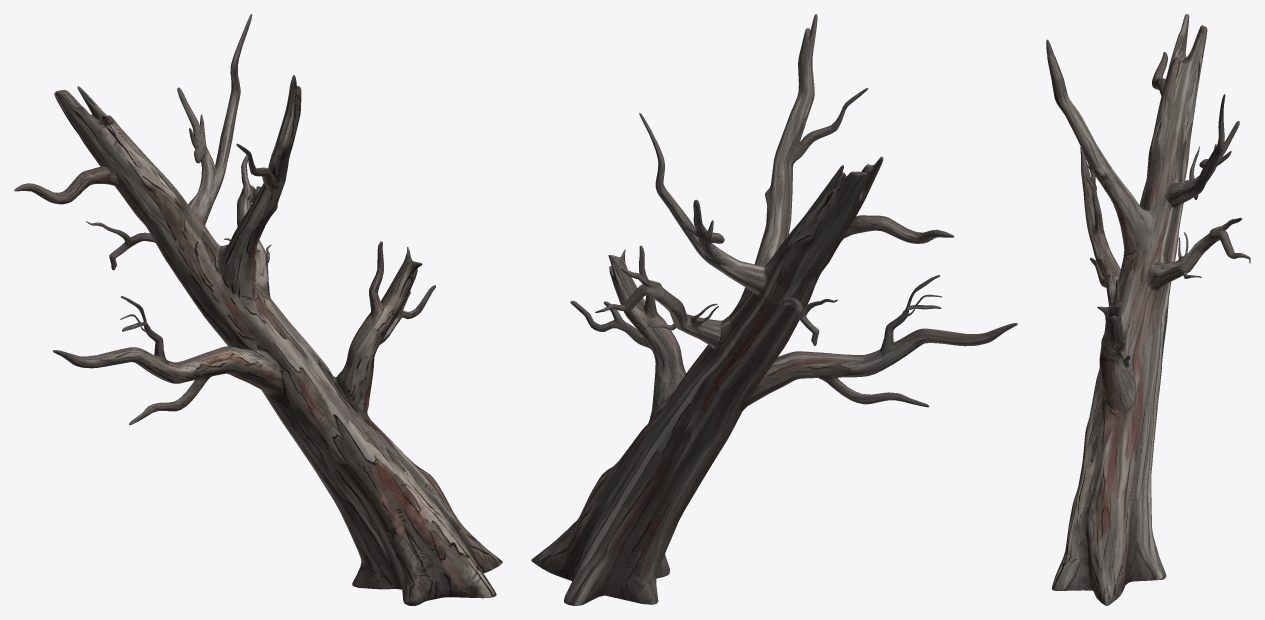
File: hazard_tree.glb
3 renders of one model, left to right at view 1: azimuth 30°, elevation 25°; view 2: azimuth 150°, elevation 25°; view 3: azimuth 270°, elevation 25°, orthographic. The views are drawn at different scales.
Bounding box in the file's own units: 1.61 × 1.9 × 0.7527.
1 material, 1 textured.
